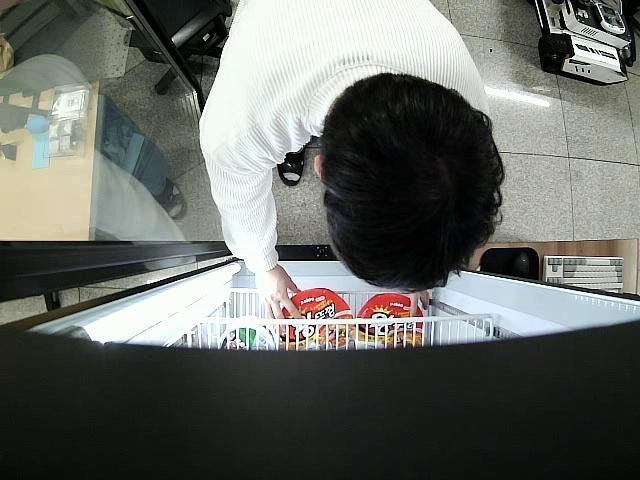10_wangTtukkeong: (274, 289, 356, 354), (354, 294, 422, 348)
